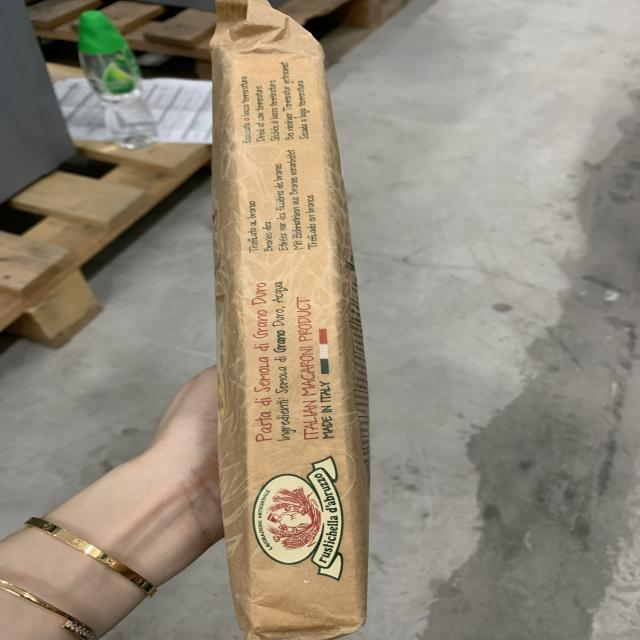object_name: (207, 11, 372, 627)
